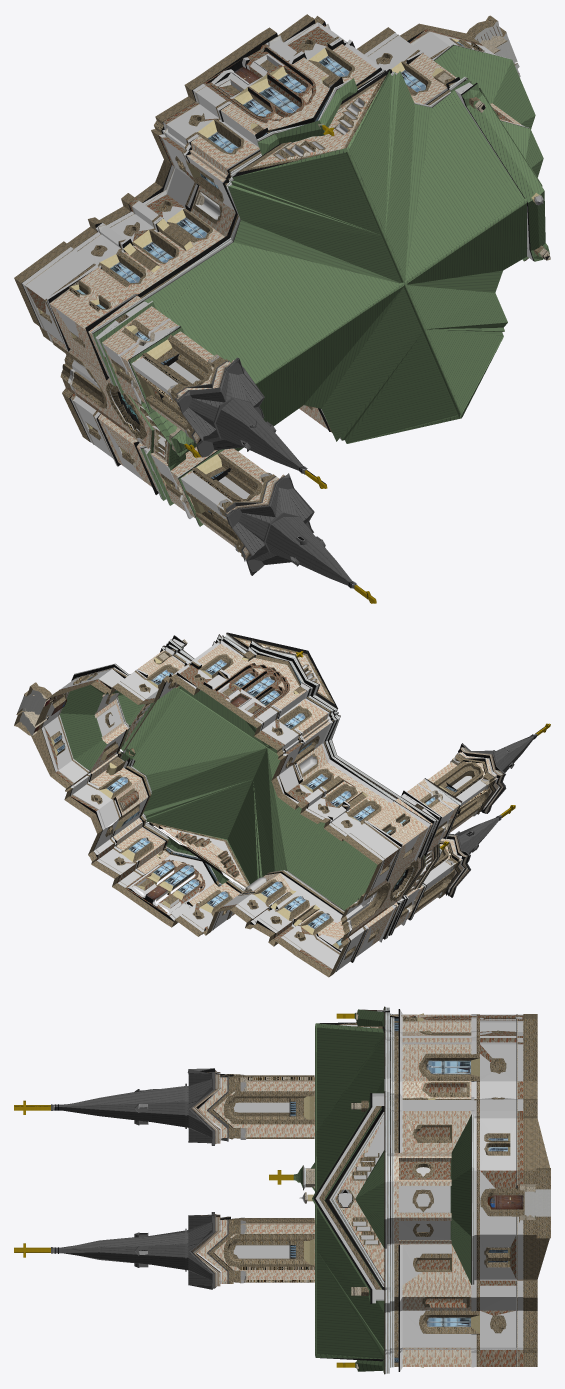
File: Toompea_10-origo.obj
3 views of the same model, one above another, from view 1: azimuth 30°, elevation 25°; view 2: azimuth 150°, elevation 25°; view 3: azimuth 270°, elevation 25° (orthographic). The views are drawn at different scales.
Parts seen in each view (by area): view 1: Toompea_10; view 2: Toompea_10; view 3: Toompea_10.
Part boxes in pixels (box(x1,y1,x2,y2)): Toompea_10: box(14, 14, 550, 603); Toompea_10: box(14, 632, 550, 977); Toompea_10: box(14, 1006, 550, 1374).
Bounding box in the file's own units: 65.94 × 47 × 63.03.
